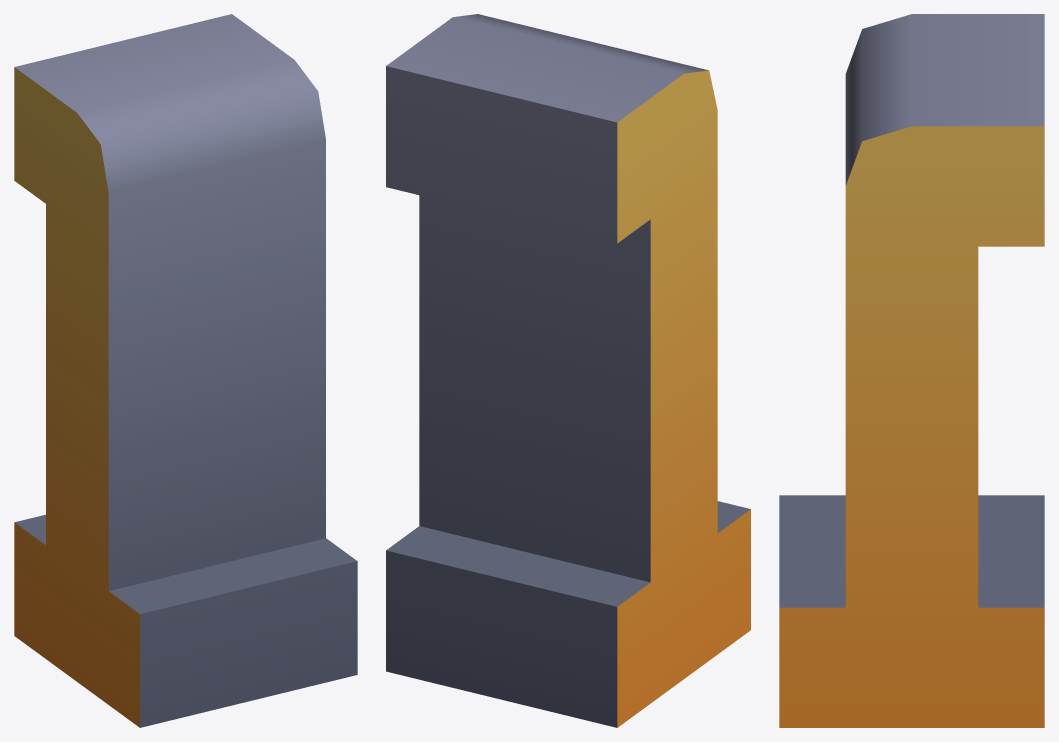
File: kenney-prototype-number-1.glb
The picture shows the model from 3 angles, left to right: view 1: azimuth 30°, elevation 25°; view 2: azimuth 150°, elevation 25°; view 3: azimuth 270°, elevation 25°; orthographic projection. The views are drawn at different scales.
Parts seen in each view (by area): view 1: number-1; view 2: number-1; view 3: number-1.
Boxes of the visible parts, x1,y1,x2,y2 form: number-1: (14,14,357,727); number-1: (386,14,750,727); number-1: (779,14,1044,727).
Size of the model in its own units: 0.2 by 0.5 by 0.2.
Materials: 1 (1 with a texture image).
